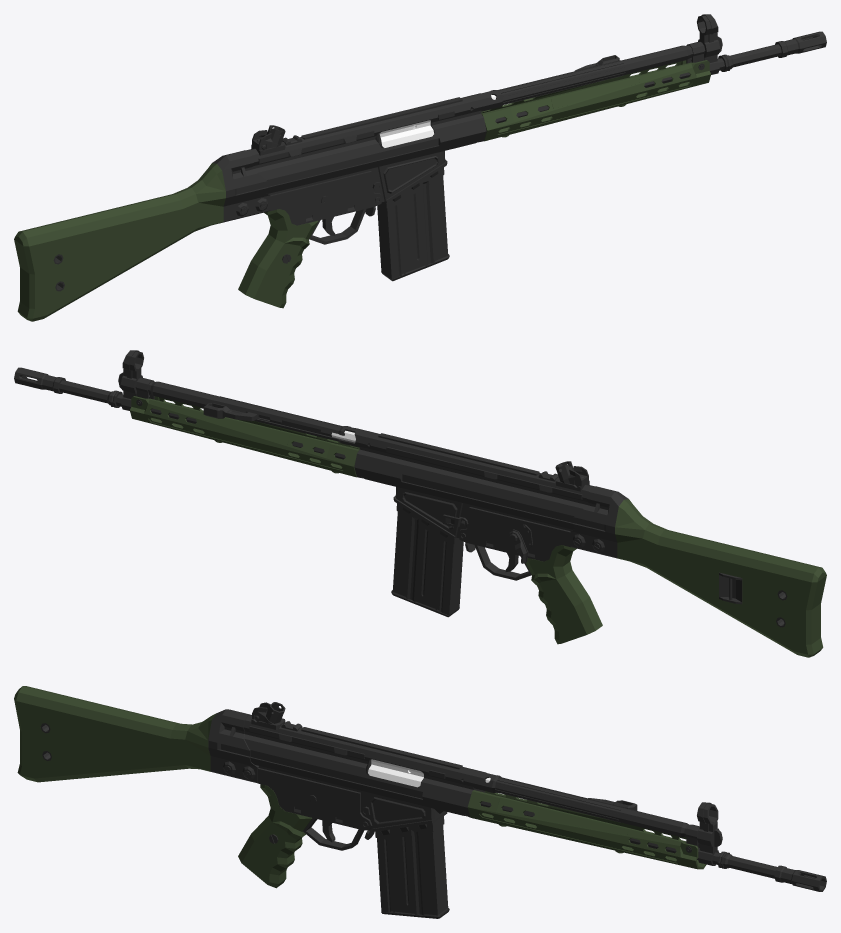
The picture shows the model from 3 angles, top to bottom: view 1: azimuth 30°, elevation 25°; view 2: azimuth 150°, elevation 25°; view 3: azimuth 330°, elevation 25°; orthographic projection.
Visible parts, largest first — view 1: gun_0, 76251 g3mag 30rnd empty_7, bolt_4, muzzle 76251 g3_9; view 2: gun_0, 76251 g3mag 30rnd empty_7, muzzle 76251 g3_9, reload handle_10; view 3: gun_0, 76251 g3mag 30rnd empty_7, bolt_4, muzzle 76251 g3_9.
Boxes of the visible parts, left/top/right/bottom form: gun_0: left=14, top=14, right=781, bottom=321; 76251 g3mag 30rnd empty_7: left=377, top=167, right=449, bottom=281; bolt_4: left=379, top=95, right=496, bottom=147; muzzle 76251 g3_9: left=775, top=31, right=826, bottom=57; gun_0: left=59, top=350, right=826, bottom=657; 76251 g3mag 30rnd empty_7: left=391, top=503, right=463, bottom=617; muzzle 76251 g3_9: left=14, top=367, right=65, bottom=393; reload handle_10: left=203, top=403, right=258, bottom=421; gun_0: left=14, top=686, right=777, bottom=888; 76251 g3mag 30rnd empty_7: left=375, top=816, right=449, bottom=918; bolt_4: left=368, top=759, right=490, bottom=787; muzzle 76251 g3_9: left=774, top=865, right=826, bottom=891.
Size of the model in its own units: 10.42 by 2.32 by 0.4629.
